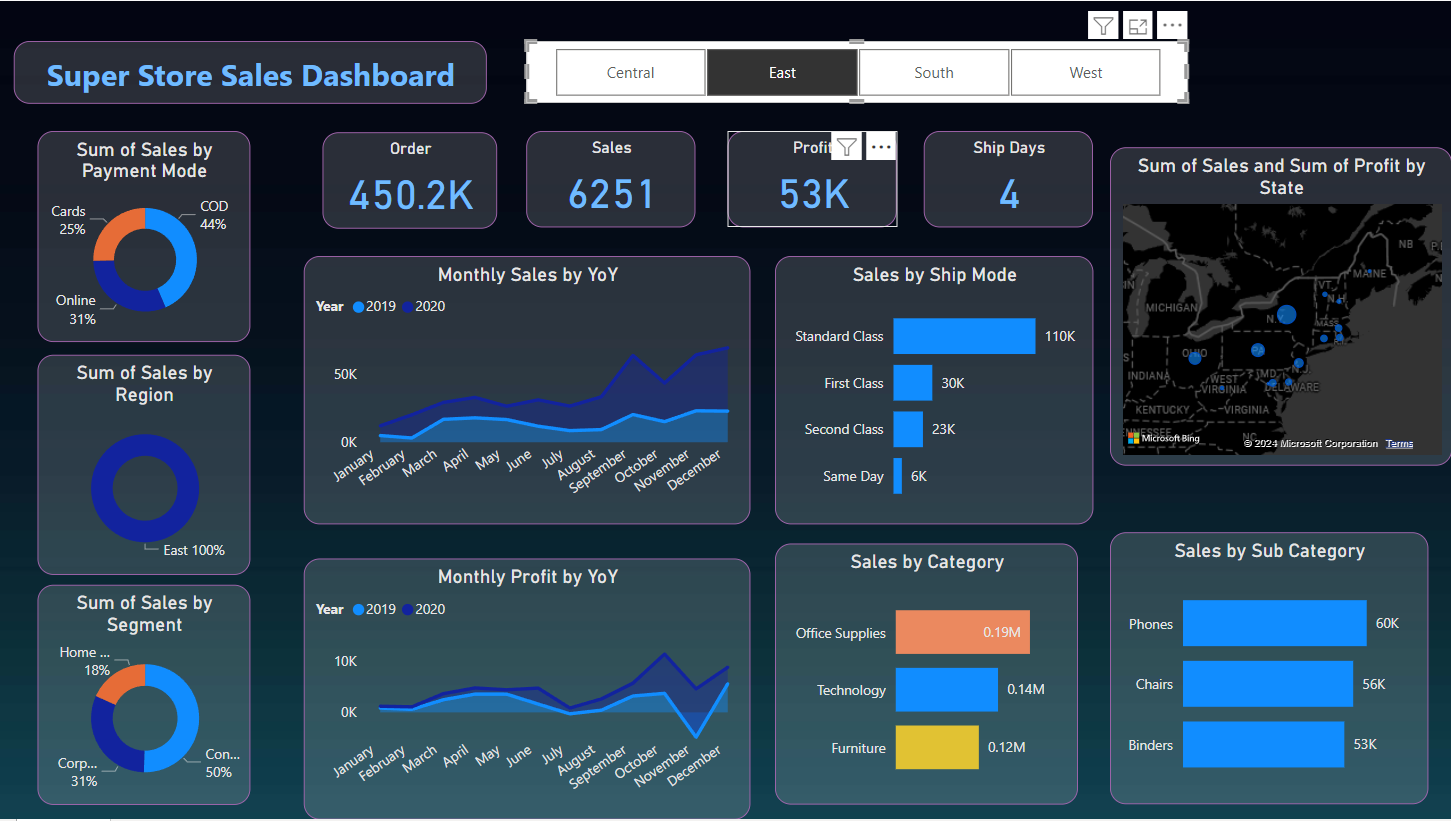

Layout of this report page (visuals, bound fields, positions):
{"tool":"powerbi","page":{"name":"Page 1","canvas":[1280,720],"ordinal":0},"visuals":[{"type":"clusteredBarChart","title":" Sales by Category","fields":{"Category":["SuperStore_Sales_Dataset.Category"],"Y":["Sum(SuperStore_Sales_Dataset.Sales)"]},"box":[681.9,477.2,266.6,229.7],"z":0},{"type":"clusteredBarChart","title":" Sales by Sub Category","fields":{"Category":["SuperStore_Sales_Dataset.Sub-Category"],"Y":["Sum(SuperStore_Sales_Dataset.Sales)"]},"box":[975.9,467.7,279.7,239.2],"z":1000},{"type":"clusteredBarChart","title":" Sales by Ship Mode","fields":{"Category":["SuperStore_Sales_Dataset.Ship Mode"],"Y":["Sum(SuperStore_Sales_Dataset.Sales)"]},"box":[681.9,223.7,279.7,235.6],"z":2000},{"type":"stackedAreaChart","title":" Monthly Sales by YoY ","fields":{"Y":["Sum(SuperStore_Sales_Dataset.Sales)"],"Category":["SuperStore_Sales_Dataset.Order Date.Variation.Date Hierarchy.Month","SuperStore_Sales_Dataset.Order Date.Variation.Date Hierarchy.Day"],"Series":["SuperStore_Sales_Dataset.Order Date.Variation.Date Hierarchy.Year"]},"box":[266.6,223.7,392.7,235.6],"z":3000},{"type":"stackedAreaChart","title":" Monthly Profit by YoY ","fields":{"Category":["SuperStore_Sales_Dataset.Order Date.Variation.Date Hierarchy.Month","SuperStore_Sales_Dataset.Order Date.Variation.Date Hierarchy.Day"],"Series":["SuperStore_Sales_Dataset.Order Date.Variation.Date Hierarchy.Year"],"Y":["Sum(SuperStore_Sales_Dataset.Profit)"]},"box":[266.6,490.3,392.7,229.7],"z":4000},{"type":"map","fields":{"Category":["SuperStore_Sales_Dataset.State"],"Size":["Sum(SuperStore_Sales_Dataset.Sales)"]},"box":[975.6,129,300.5,279.9],"z":5000},{"type":"donutChart","fields":{"Category":["SuperStore_Sales_Dataset.Segment"],"Y":["Sum(SuperStore_Sales_Dataset.Sales)"]},"box":[33.3,512.9,186.8,194],"z":6000},{"type":"donutChart","fields":{"Category":["SuperStore_Sales_Dataset.Payment Mode"],"Y":["Sum(SuperStore_Sales_Dataset.Sales)"]},"box":[33.3,114.2,186.8,185.7],"z":7000},{"type":"slicer","fields":{"Values":["SuperStore_Sales_Dataset.Region"]},"box":[462.9,35.7,582,54.7],"z":8000},{"type":"textbox","box":[12.3,35.7,415.8,54.9],"z":9000},{"type":"card","title":"Order","fields":{"Values":["Sum(SuperStore_Sales_Dataset.Sales)"]},"box":[283.2,115.4,153.5,84.5],"z":10000},{"type":"card","title":"Sales","fields":{"Values":["Sum(SuperStore_Sales_Dataset.Quantity)"]},"box":[462.9,114.2,148.8,84.5],"z":11000},{"type":"card","title":"Profit","fields":{"Values":["Sum(SuperStore_Sales_Dataset.Profit)"]},"box":[640.3,114.2,148.8,84.5],"z":12000},{"type":"card","title":"Ship Days","fields":{"Values":["Avg(SuperStore_Sales_Dataset.AvgDelivery)"]},"box":[812.8,114.2,148.8,84.5],"z":13000},{"type":"donutChart","fields":{"Category":["SuperStore_Sales_Dataset.Region"],"Y":["Sum(SuperStore_Sales_Dataset.Sales)"]},"box":[33.3,310.6,186.8,194],"z":14000}]}

Visuals, with their boxes in screenshot pixels (x1, y1, x2, y2), scaled from the page's 1280x720 canvas onto the 1451x821 screenshot:
" Sales by Category" clusteredBarChart: (x1=773, y1=544, x2=1075, y2=806)
" Sales by Sub Category" clusteredBarChart: (x1=1106, y1=533, x2=1423, y2=806)
" Sales by Ship Mode" clusteredBarChart: (x1=773, y1=255, x2=1090, y2=524)
" Monthly Sales by YoY " stackedAreaChart: (x1=302, y1=255, x2=747, y2=524)
" Monthly Profit by YoY " stackedAreaChart: (x1=302, y1=559, x2=747, y2=820)
map - SuperStore_Sales_Dataset.State x Sum(SuperStore_Sales_Dataset.Sales): (x1=1106, y1=147, x2=1447, y2=466)
donutChart - SuperStore_Sales_Dataset.Segment x Sum(SuperStore_Sales_Dataset.Sales): (x1=38, y1=585, x2=250, y2=806)
donutChart - SuperStore_Sales_Dataset.Payment Mode x Sum(SuperStore_Sales_Dataset.Sales): (x1=38, y1=130, x2=250, y2=342)
slicer - SuperStore_Sales_Dataset.Region: (x1=525, y1=41, x2=1184, y2=103)
textbox: (x1=14, y1=41, x2=485, y2=103)
"Order" card: (x1=321, y1=132, x2=495, y2=228)
"Sales" card: (x1=525, y1=130, x2=693, y2=227)
"Profit" card: (x1=726, y1=130, x2=895, y2=227)
"Ship Days" card: (x1=921, y1=130, x2=1090, y2=227)
donutChart - SuperStore_Sales_Dataset.Region x Sum(SuperStore_Sales_Dataset.Sales): (x1=38, y1=354, x2=250, y2=575)
